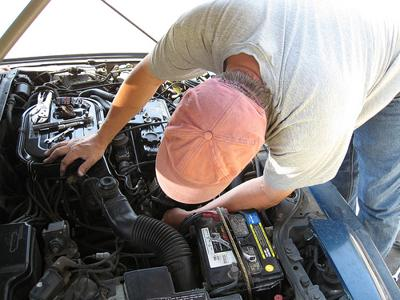person: (44, 2, 400, 261)
